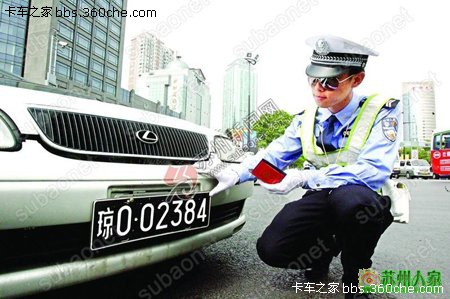plate_number: (90, 198, 213, 238)
